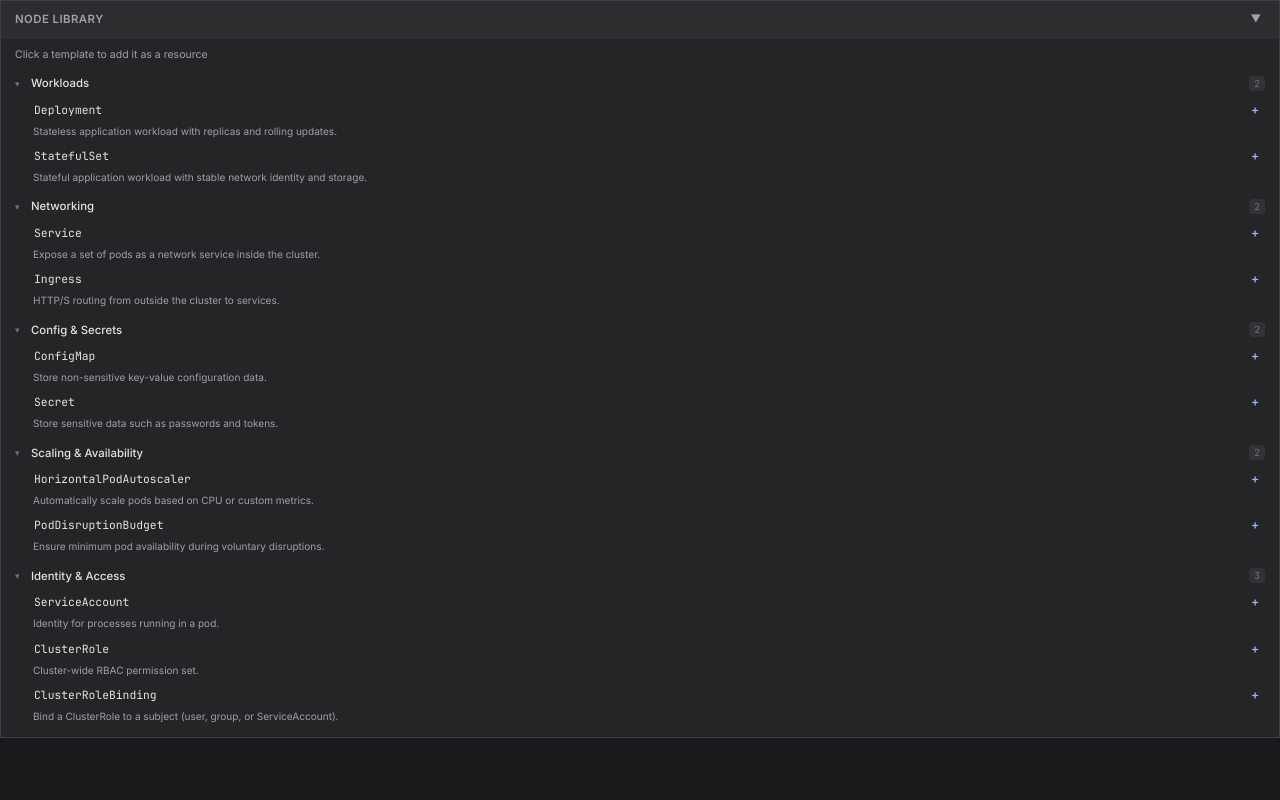
Test case: NodeLibrary › re-expands a collapsed category
Click the button "▾ Workloads 2". click: x=60, y=83
box: [1,71,1279,96]
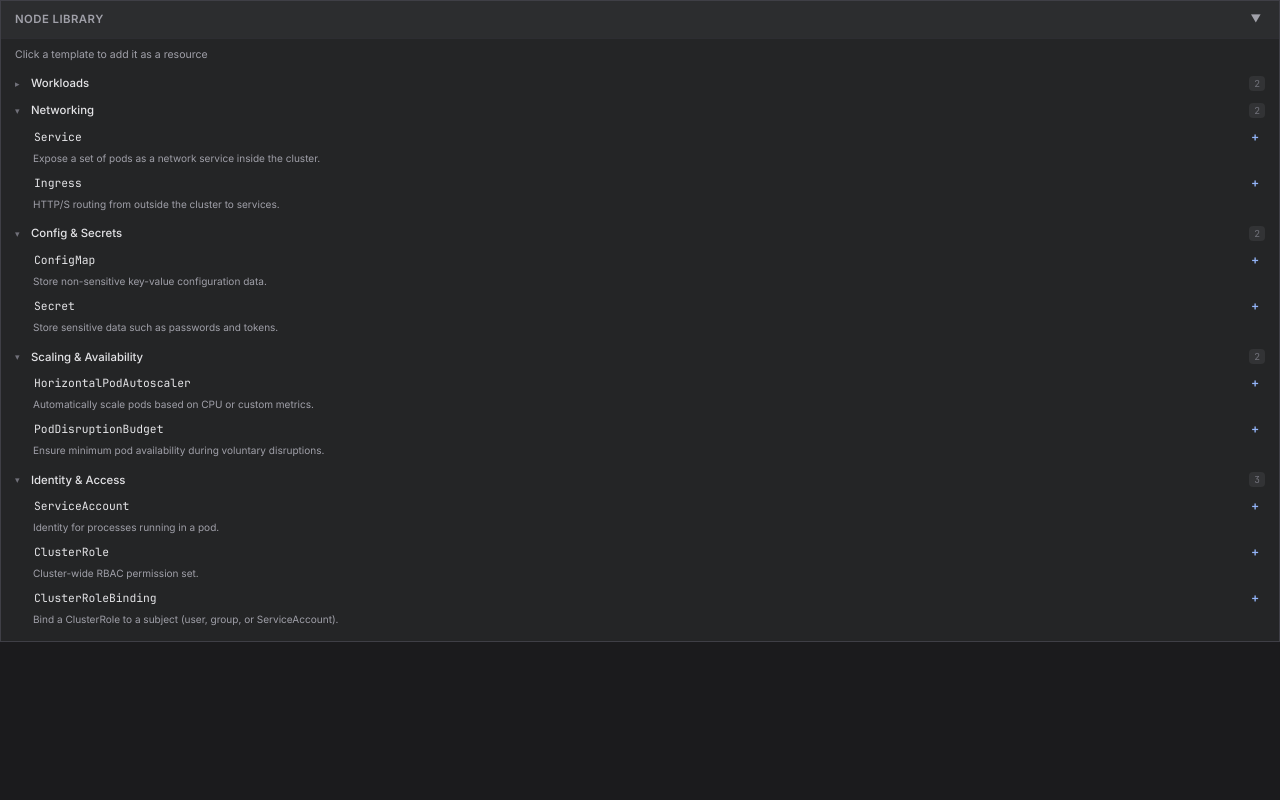
Click the button "▸ Workloads 2". click: x=60, y=83
box: [1,71,1279,96]
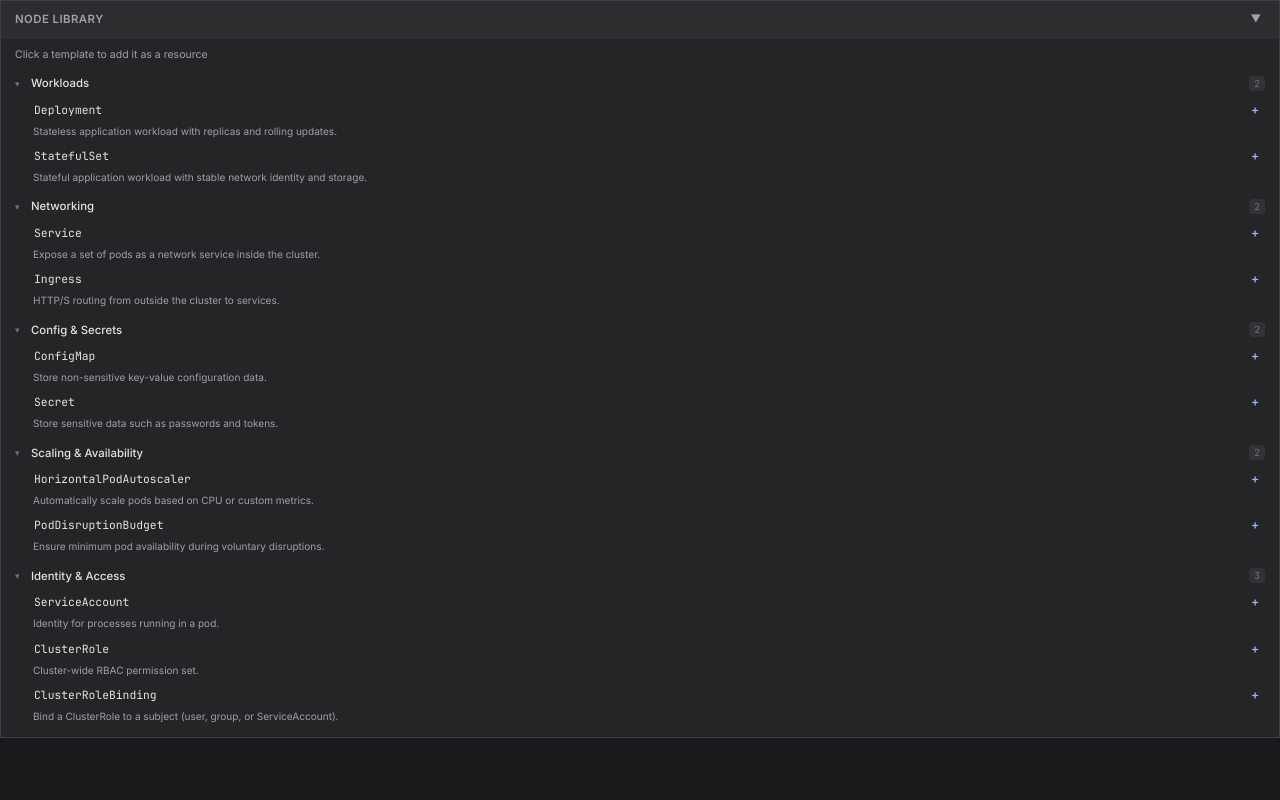
Expected: the button with test id "node-library-add-Deployment" is shown, [25,96,1271,123]
